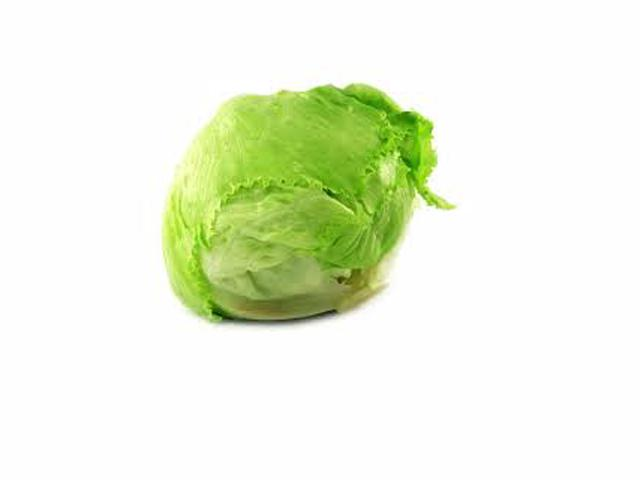lettuce: (151, 72, 424, 332)
